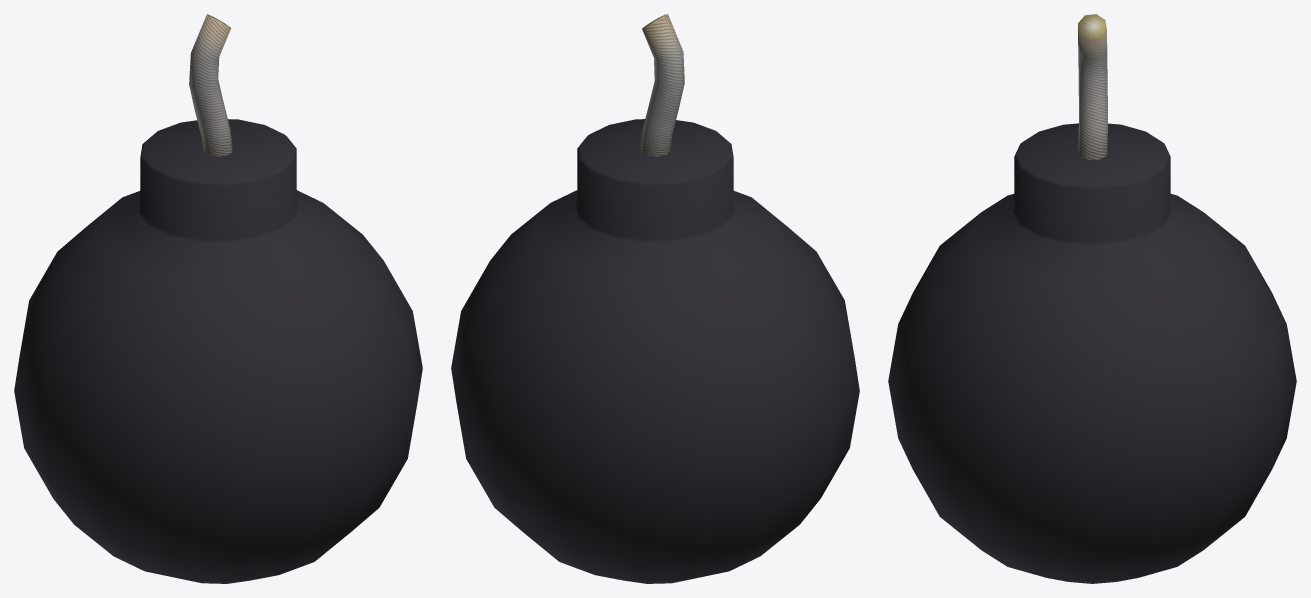
File: Bomb.fbx
3 renders of one model, left to right at view 1: azimuth 30°, elevation 25°; view 2: azimuth 150°, elevation 25°; view 3: azimuth 270°, elevation 25°, orthographic.
Parts seen in each view (by area): view 1: Bomb; view 2: Bomb; view 3: Bomb.
Boxes of the visible parts, box(x1,y1,x2,y2) form: Bomb: box(14, 14, 422, 583); Bomb: box(451, 14, 859, 583); Bomb: box(888, 14, 1296, 583).
Bounding box in the file's own units: 57.55 × 85.12 × 57.55.
